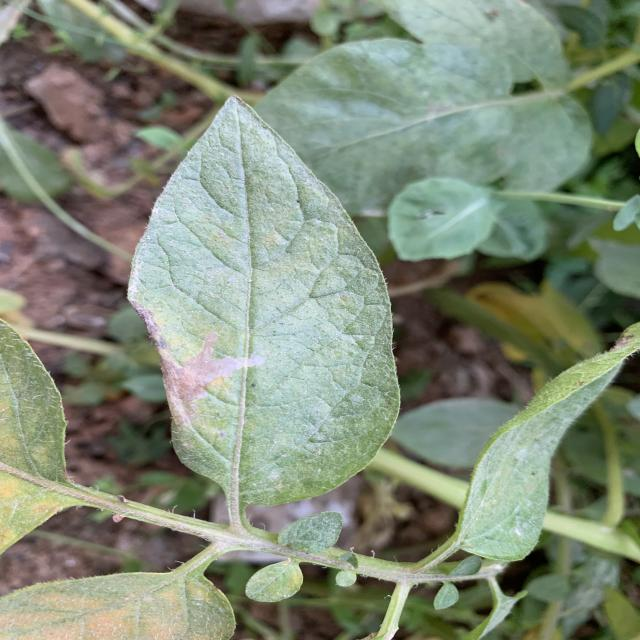lateblight: (162, 331, 265, 425)
